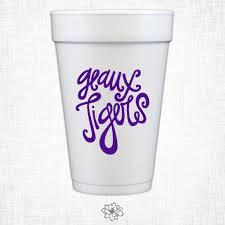Plastic cup: (49, 8, 185, 201)
